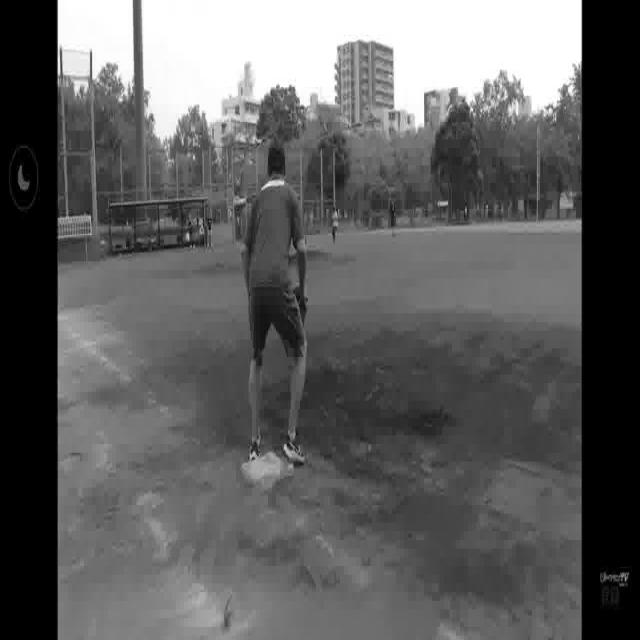base: (239, 451, 291, 493)
baseball_glove: (292, 279, 308, 325)
shoe: (282, 431, 304, 473), (246, 432, 267, 460)
